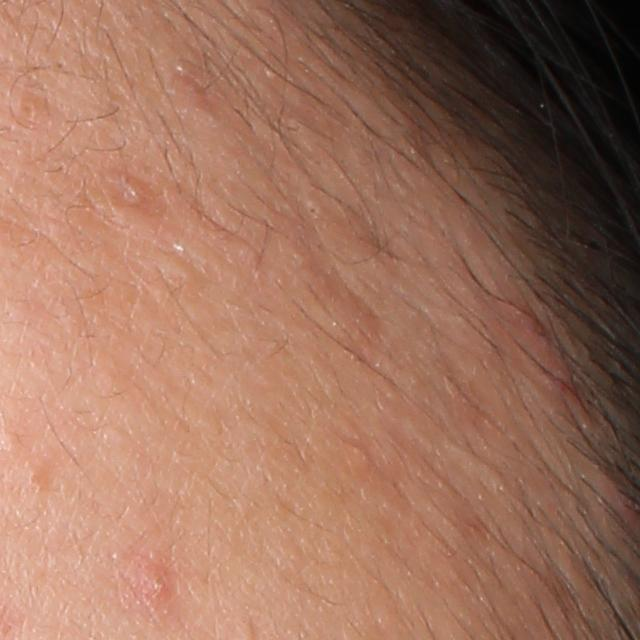comedo: (113, 175, 152, 212)
papule: (498, 295, 557, 355), (128, 558, 175, 605)
